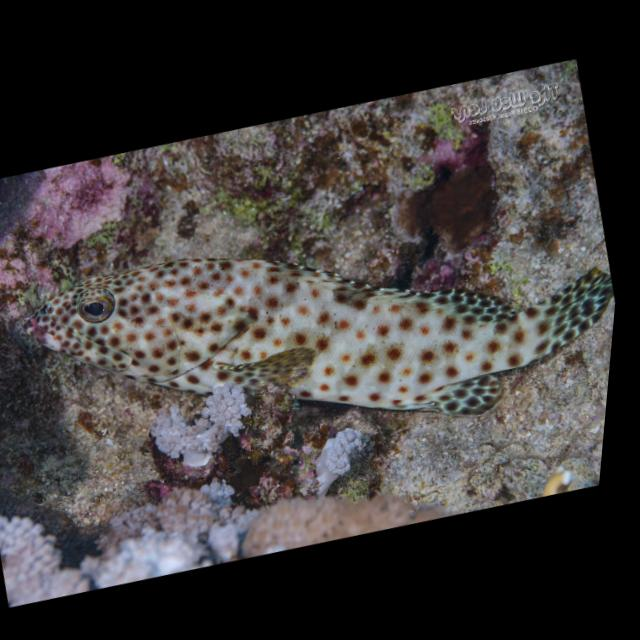Groupers: (0, 147, 627, 523)
